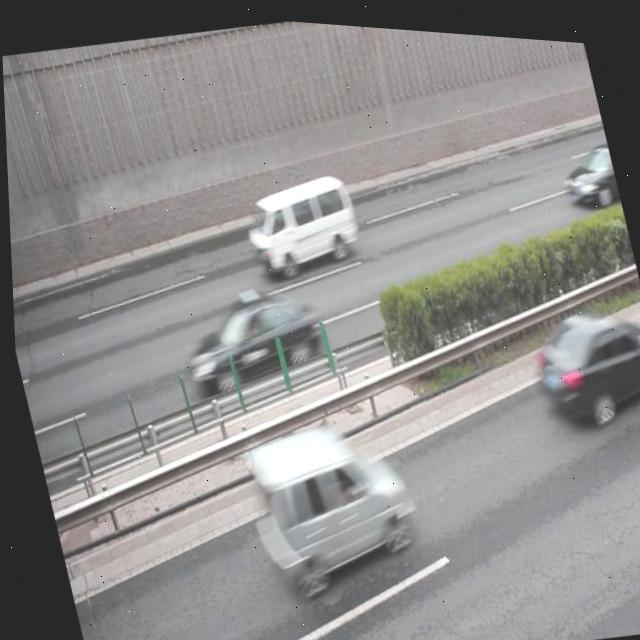car: (174, 281, 331, 398), (521, 288, 640, 425), (553, 123, 619, 201), (103, 627, 311, 640)
truck: (231, 401, 423, 599), (238, 161, 366, 281)
